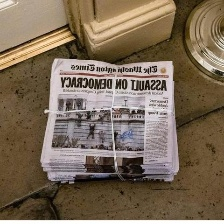news_paper: (37, 55, 179, 188)
